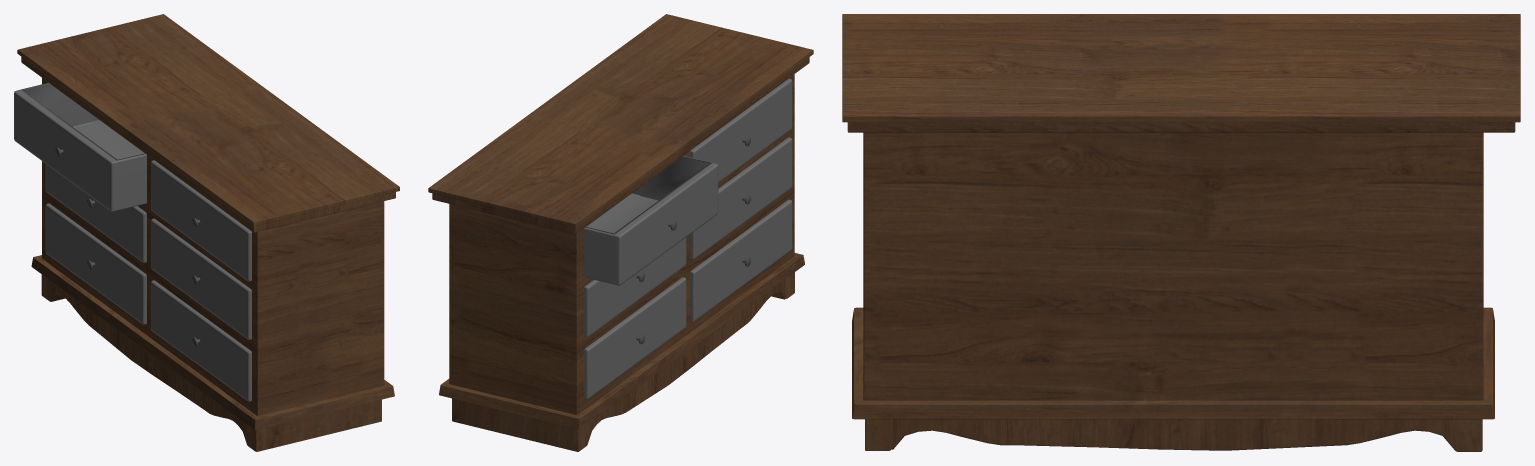
File: cabinet.fbx
The picture shows the model from 3 angles, left to right: view 1: azimuth 30°, elevation 25°; view 2: azimuth 150°, elevation 25°; view 3: azimuth 270°, elevation 25°; orthographic projection. The views are drawn at different scales.
Visible parts, largest first — view 1: cabinet1; view 2: cabinet1; view 3: cabinet1.
Part boxes in pixels (x1,y1,x2,y2): cabinet1: [14, 14, 399, 451]; cabinet1: [428, 14, 813, 451]; cabinet1: [842, 14, 1520, 451].
Size of the model in its own units: 74.28 by 96.27 by 173.
